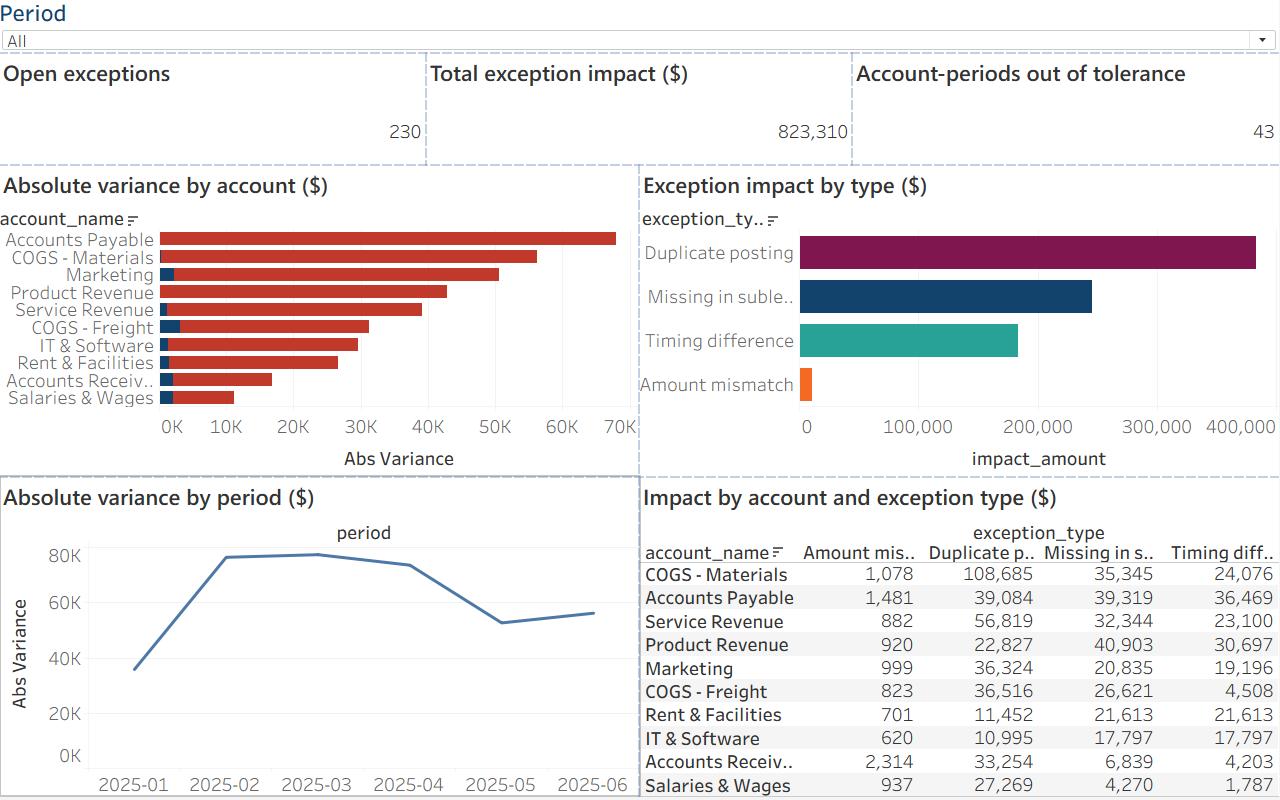

The page's visual inventory and layout, read from the dashboard file:
{"tool":"tableau","page":{"name":"GL Close Scorecard","canvas":[1280,800],"ordinal":0},"visuals":[{"type":"parameter","param":"[Parameters].[Parameter 1]","box":[0,0,1280,56]},{"type":"worksheet","title":"KPI Exceptions","mark":"Text","box":[0,56,426.7,112]},{"type":"worksheet","title":"KPI Impact","mark":"Text","box":[426.7,56,426.7,112]},{"type":"worksheet","title":"KPI Out of Tolerance","mark":"Text","box":[853.3,56,426.7,112]},{"type":"worksheet","title":"Variance by Account","mark":"Bar","rows":["account_name"],"cols":["Calculation_absvariance"],"box":[0,168,640,312]},{"type":"worksheet","title":"Impact by Exception Type","mark":"Bar","rows":["exception_type"],"cols":["impact_amount"],"box":[640,168,640,312]},{"type":"worksheet","title":"Variance Trend","mark":"Line","rows":["Calculation_absvariance"],"cols":["period"],"box":[0,480,640,320]},{"type":"worksheet","title":"Impact Matrix","mark":"Text","rows":["account_name"],"cols":["exception_type"],"box":[640,480,640,320]}]}

Visuals, with their boxes in screenshot pixels (x1, y1, x2, y2), scaled from the page's 1280x800 canvas onto the 1280x800 screenshot:
parameter: pyautogui.locateOnScreen(0, 0, 1279, 56)
"KPI Exceptions" worksheet (Text marks): pyautogui.locateOnScreen(0, 56, 427, 168)
"KPI Impact" worksheet (Text marks): pyautogui.locateOnScreen(427, 56, 853, 168)
"KPI Out of Tolerance" worksheet (Text marks): pyautogui.locateOnScreen(853, 56, 1279, 168)
"Variance by Account" worksheet (Bar marks): pyautogui.locateOnScreen(0, 168, 640, 480)
"Impact by Exception Type" worksheet (Bar marks): pyautogui.locateOnScreen(640, 168, 1279, 480)
"Variance Trend" worksheet (Line marks): pyautogui.locateOnScreen(0, 480, 640, 799)
"Impact Matrix" worksheet (Text marks): pyautogui.locateOnScreen(640, 480, 1279, 799)
